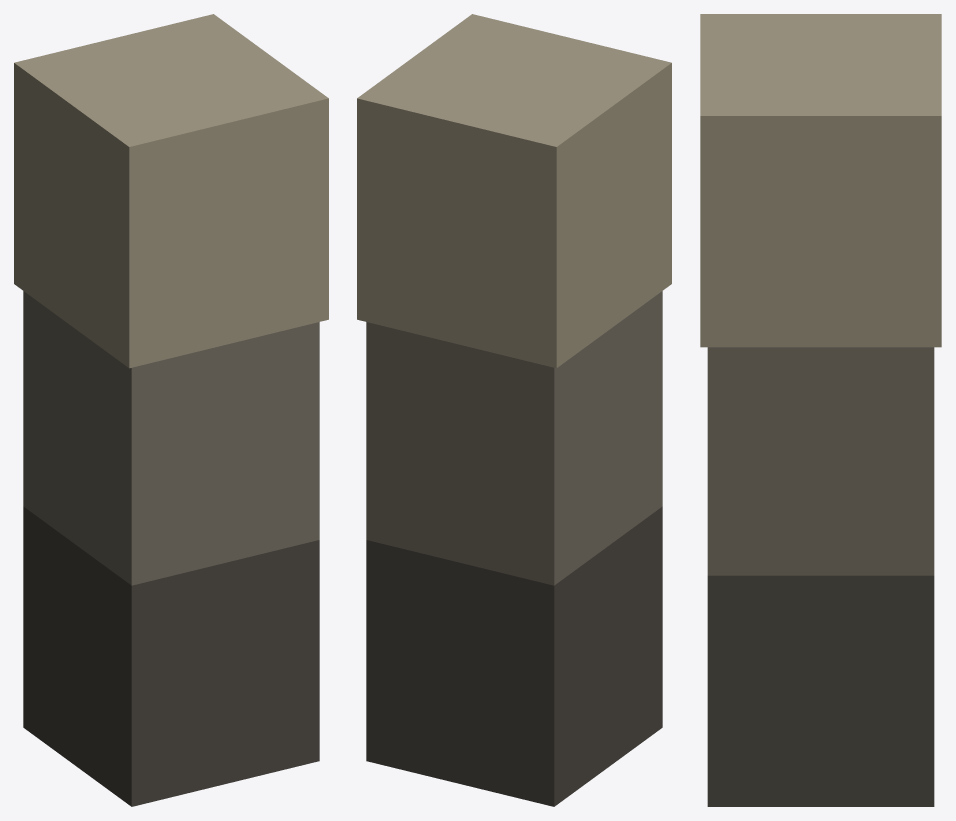
The model's file is TW_STONE_POST_A_LOD0.glb.
3 renders of one model, left to right at view 1: azimuth 30°, elevation 25°; view 2: azimuth 150°, elevation 25°; view 3: azimuth 270°, elevation 25°, orthographic. The views are drawn at different scales.
Visible parts, largest first — view 1: TW_STONE_POST_A_LOD0; view 2: TW_STONE_POST_A_LOD0; view 3: TW_STONE_POST_A_LOD0.
Boxes of the visible parts, x1=… form: TW_STONE_POST_A_LOD0: x1=14, y1=14, x2=328, y2=806; TW_STONE_POST_A_LOD0: x1=357, y1=14, x2=671, y2=806; TW_STONE_POST_A_LOD0: x1=700, y1=14, x2=941, y2=806.
Size of the model in its own units: 0.34 by 1.08 by 0.34.
Materials: 1 (1 with a texture image).
